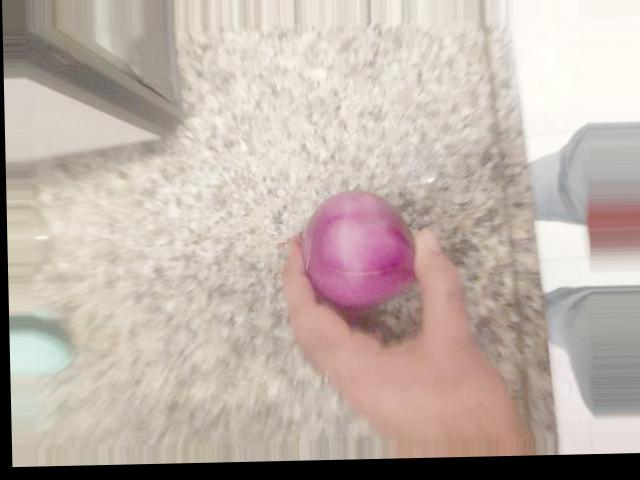onion: (199, 44, 321, 169)
